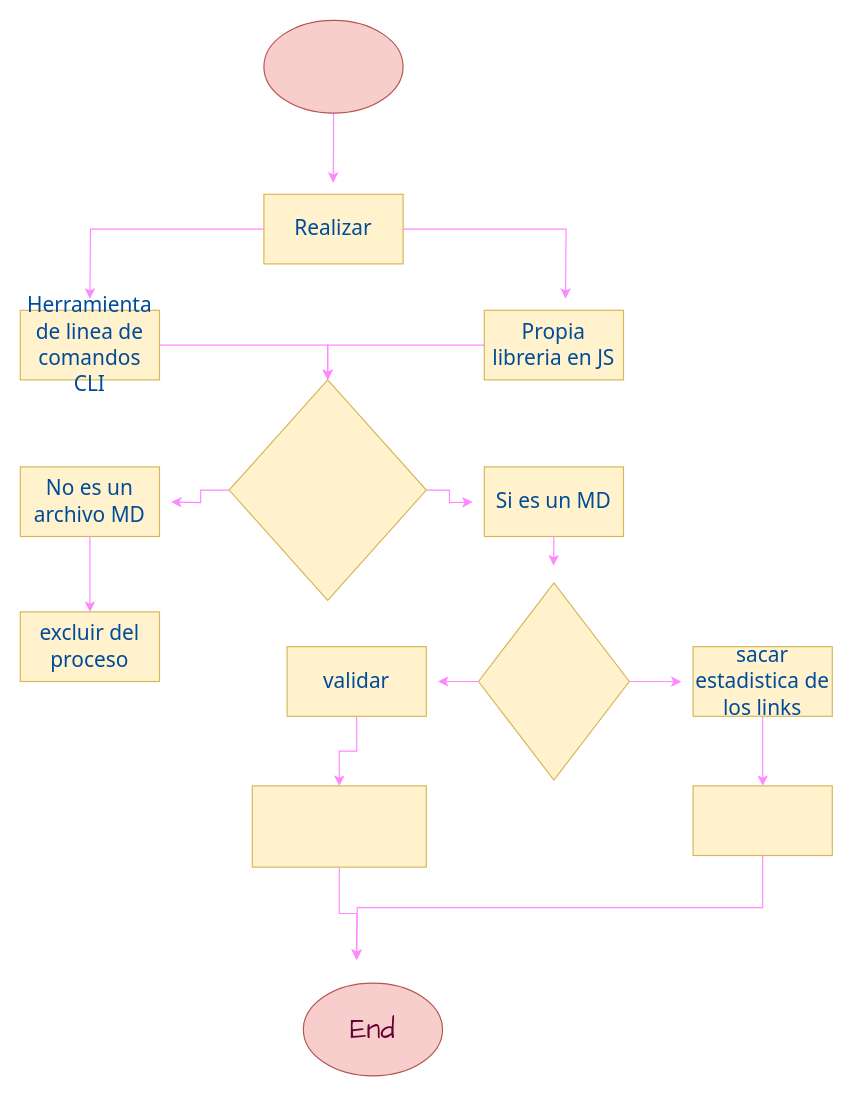
Some shapes in this 853 by 1096 pixel diagram are drawn without their labels. The centre of each missing label's shape, as x and y in pixels:
"imprimir estadistica de los links" goes at point (762, 820).
"Imprimir links con ruta, validación y estadistica" goes at point (338, 826).
"Leer contenido y Reconocer una ruta para obtener los links" goes at point (327, 489).
"Obtener los links. ¿Funcionan?" goes at point (553, 681).
"Start" goes at point (333, 66).
